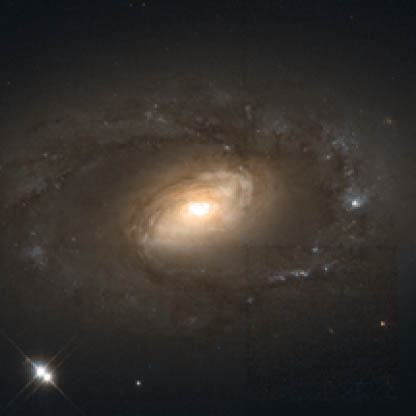NGC 4102: (8, 47, 399, 398)
